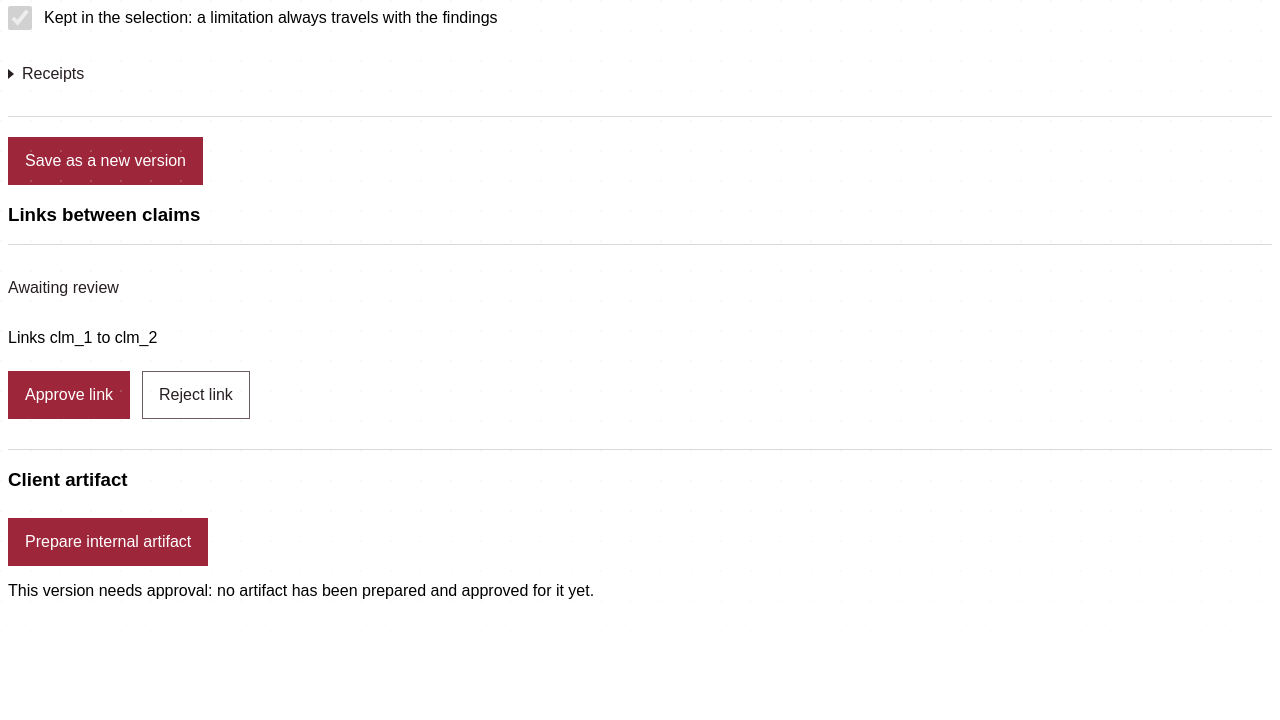
Scenario: the working sequence › a 403 review_role_required refusal is shown in plain words
(page scrolled)
Click the button "Approve link" at (69, 395), box [8,371,130,419]
(page scrolled)
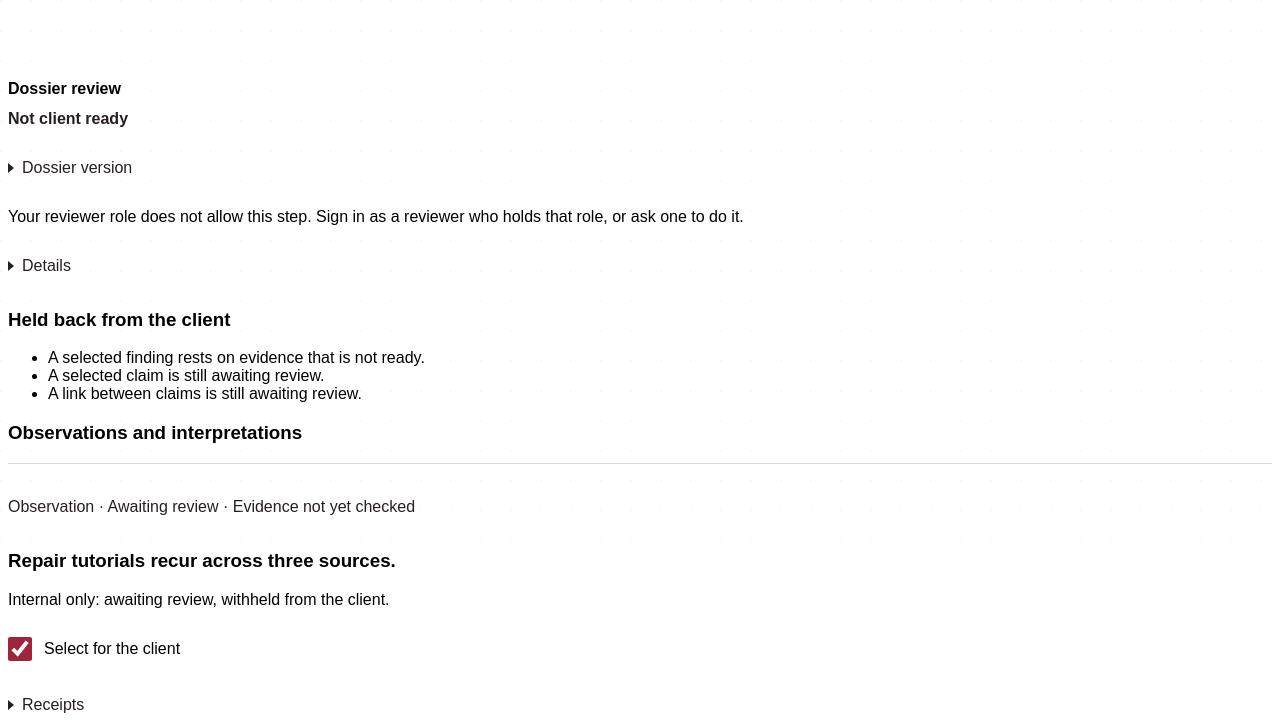
Expected: the message shows "role", [8,208,744,225]
